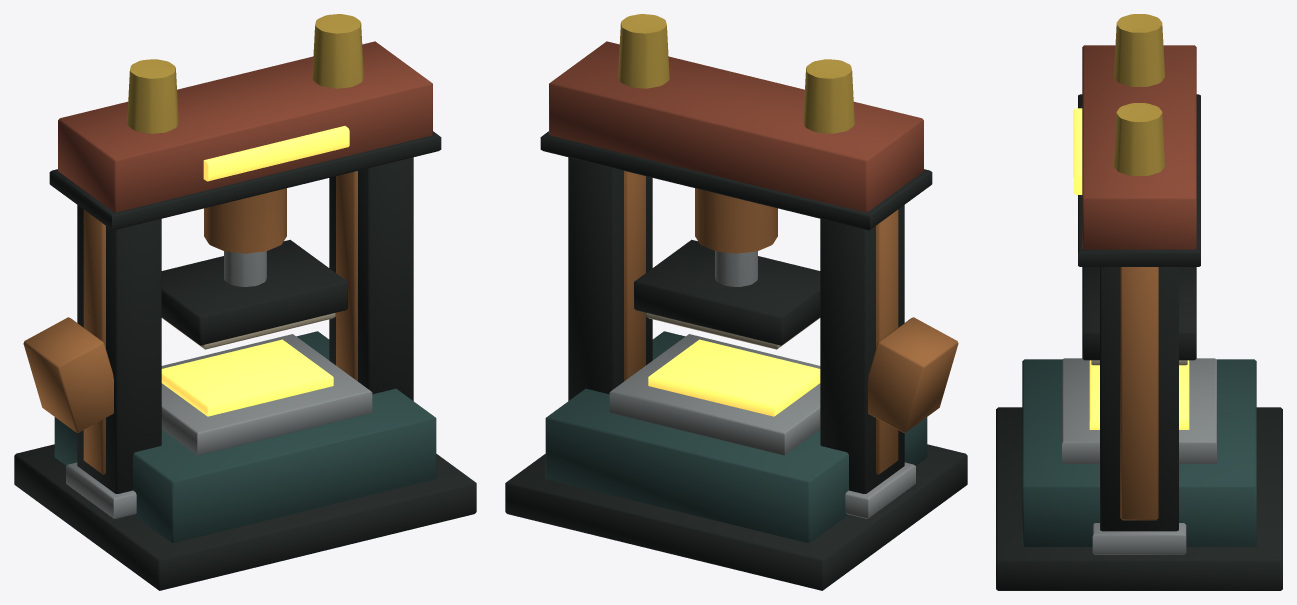
File: station_part_press.glb
The picture shows the model from 3 angles, left to right: view 1: azimuth 30°, elevation 25°; view 2: azimuth 150°, elevation 25°; view 3: azimuth 270°, elevation 25°; orthographic projection.
Parts seen in each view (by area): view 1: station_part_press_mesh; view 2: station_part_press_mesh; view 3: station_part_press_mesh.
Part boxes in pixels (<box>): station_part_press_mesh: <box>14,14,476,590</box>; station_part_press_mesh: <box>505,14,967,590</box>; station_part_press_mesh: <box>996,14,1282,590</box>.
Bounding box in the file's own units: 2.88 × 3.37 × 1.96.
